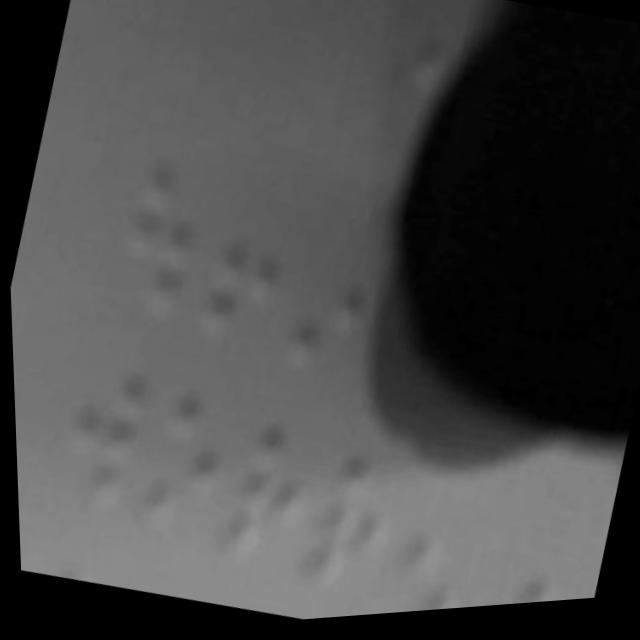braiile: (266, 207, 402, 408), (184, 172, 312, 374), (99, 153, 225, 355), (210, 411, 338, 599), (127, 378, 258, 561), (292, 444, 424, 624), (42, 348, 167, 538), (379, 478, 495, 619), (462, 490, 581, 614)
